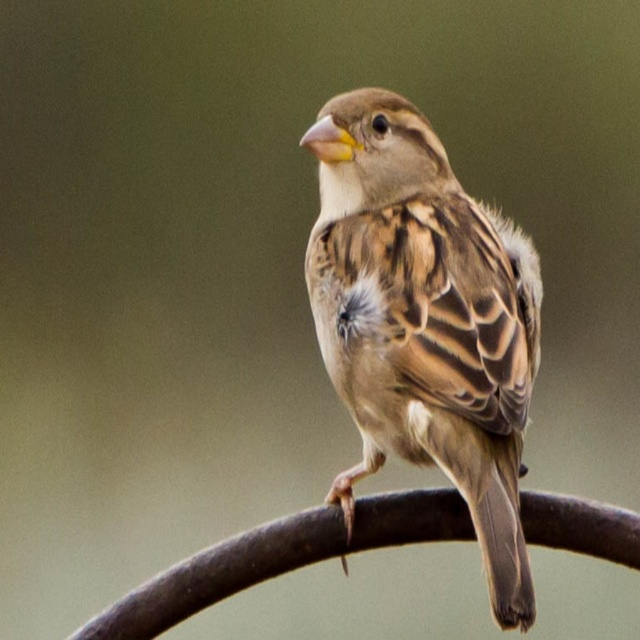Sparrow: (298, 88, 544, 633)
